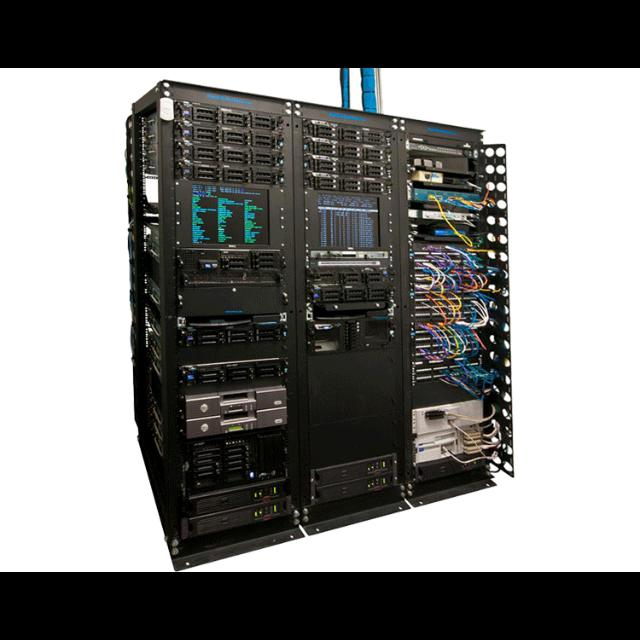Server: (122, 74, 514, 572)
